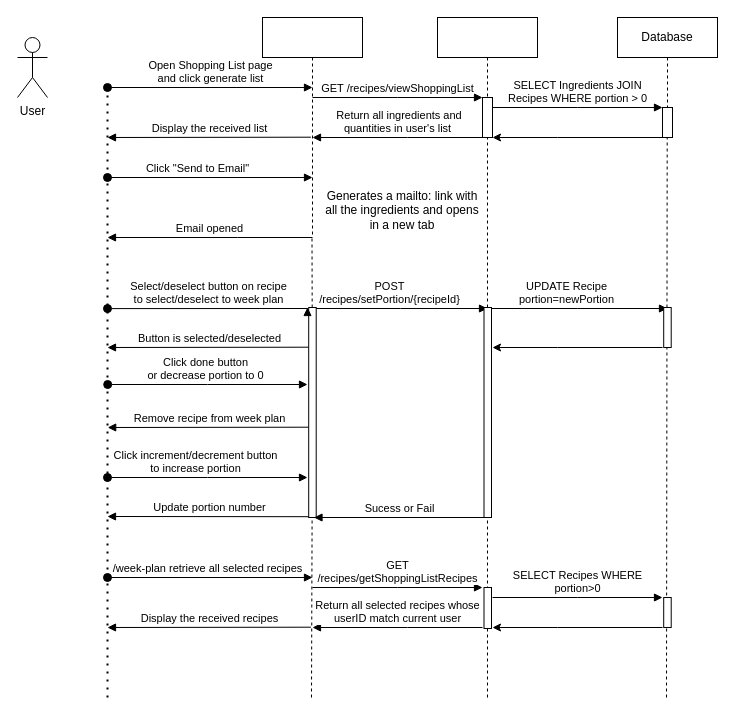
The diagram is 735 pixels wide and 717 high, and some of its shapes have lost their labels. Each missing label, with the centre of its shape:
"API" belongs at [487,77].
"Frontend" belongs at [312,127].
